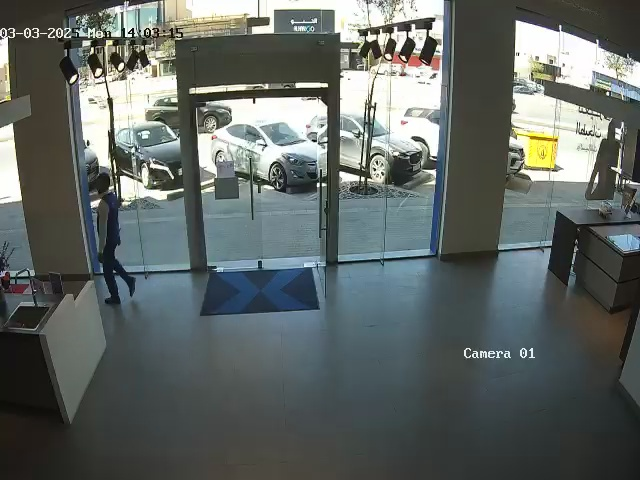employee: (95, 172, 136, 305)
